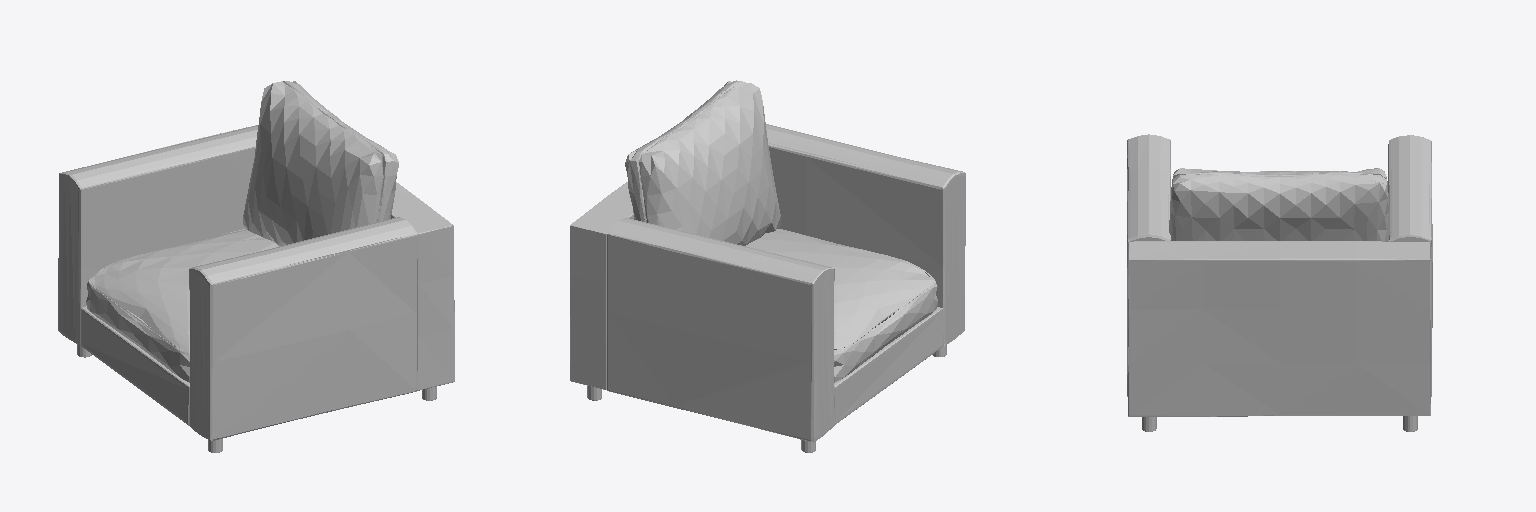
The model's file is Chair.obj.
3 renders of one model, left to right at view 1: azimuth 30°, elevation 25°; view 2: azimuth 150°, elevation 25°; view 3: azimuth 270°, elevation 25°, orthographic.
Parts seen in each view (by area): view 1: Plane.007_Plane.005; view 2: Plane.007_Plane.005; view 3: Plane.007_Plane.005.
Boxes of the visible parts, x1=… form: Plane.007_Plane.005: x1=58, y1=81, x2=454, y2=452; Plane.007_Plane.005: x1=570, y1=80, x2=965, y2=452; Plane.007_Plane.005: x1=1127, y1=134, x2=1432, y2=431.
Bounding box in the file's own units: 1.31 × 1.22 × 1.41.